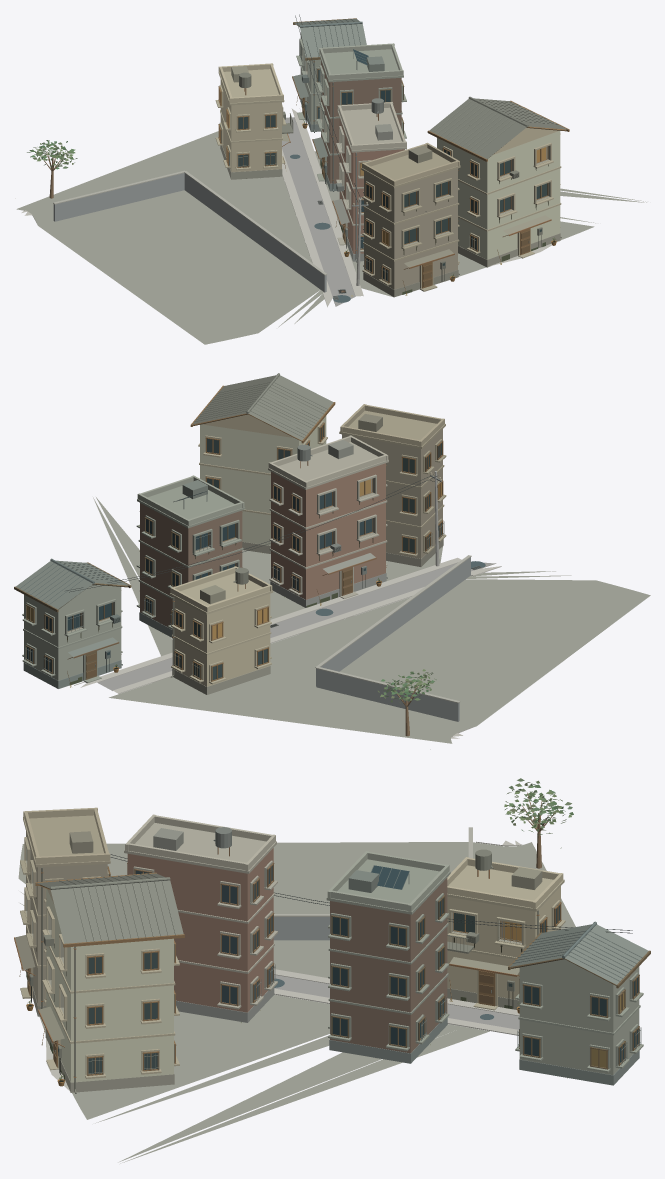
File: street_5_6.glb
3 views of the same model, one above another, from view 1: azimuth 30°, elevation 25°; view 2: azimuth 150°, elevation 25°; view 3: azimuth 270°, elevation 25° (orthographic). The views are drawn at different scales.
Visible parts, largest first — view 1: ground.071, trim.034, plaster.034, mint_plaster.002, graybrick.033, concrete.029, roof_tile.025, roof_metal.034, brick.030, road.028, wood.034, paving.057 (+4 smaller); view 2: ground.071, trim.034, plaster.034, brick.030, graybrick.033, mint_plaster.002, wood.034, roof_tile.025, roof_metal.034, concrete.029, glass.034, road.028 (+5 smaller); view 3: ground.071, trim.034, brick.030, plaster.034, mint_plaster.002, wood.034, roof_tile.025, roof_metal.034, graybrick.033, glass.034, metal.034, concrete.029 (+5 smaller).
Boxes of the visible parts, x1,y1,x2,y2 form: ground.071: [16, 131, 646, 344]; trim.034: [53, 38, 561, 291]; plaster.034: [218, 32, 558, 186]; mint_plaster.002: [437, 130, 560, 259]; graybrick.033: [53, 98, 560, 297]; concrete.029: [356, 168, 457, 289]; roof_tile.025: [299, 21, 567, 158]; roof_metal.034: [231, 19, 550, 267]; brick.030: [321, 61, 404, 253]; road.028: [282, 117, 355, 306]; wood.034: [44, 18, 569, 292]; paving.057: [21, 108, 560, 306]; ground.071: [93, 497, 650, 743]; trim.034: [22, 410, 471, 703]; plaster.034: [24, 404, 444, 686]; brick.030: [140, 463, 385, 629]; graybrick.033: [23, 539, 470, 721]; mint_plaster.002: [200, 416, 326, 545]; wood.034: [14, 385, 443, 736]; roof_tile.025: [50, 373, 333, 583]; roof_metal.034: [16, 414, 382, 656]; concrete.029: [342, 429, 442, 566]; glass.034: [27, 425, 441, 679]; road.028: [97, 562, 494, 690]; ground.071: [18, 842, 575, 1163]; trim.034: [20, 815, 643, 1078]; brick.030: [127, 848, 447, 1053]; plaster.034: [23, 807, 639, 1074]; mint_plaster.002: [46, 888, 173, 1082]; wood.034: [20, 792, 650, 1075]; roof_tile.025: [37, 873, 596, 958]; roof_metal.034: [15, 828, 648, 1041]; graybrick.033: [25, 917, 639, 1092]; glass.034: [29, 864, 637, 1074]; metal.034: [27, 827, 642, 1093]; concrete.029: [26, 831, 107, 1006].
Bounding box in the file's own units: 43.76 × 11.32 × 36.42.
